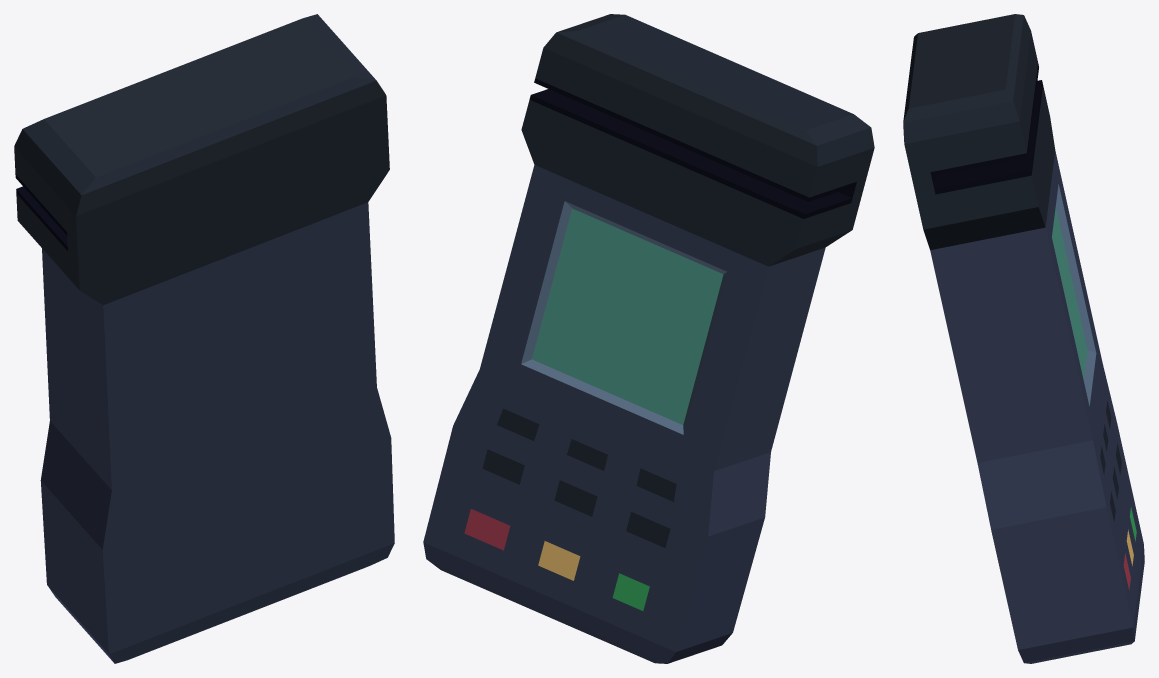
The model's file is CardReader.fbx.
The picture shows the model from 3 angles, left to right: view 1: azimuth 30°, elevation 25°; view 2: azimuth 150°, elevation 25°; view 3: azimuth 270°, elevation 25°; orthographic projection. The views are drawn at different scales.
Visible parts, largest first — view 1: CardReader; view 2: CardReader; view 3: CardReader.
Part boxes in pixels (x1,y1,x2,y2): CardReader: [14, 14, 394, 663]; CardReader: [423, 14, 874, 663]; CardReader: [903, 14, 1144, 663].
Bounding box in the file's own units: 66.21 × 105 × 39.84.
